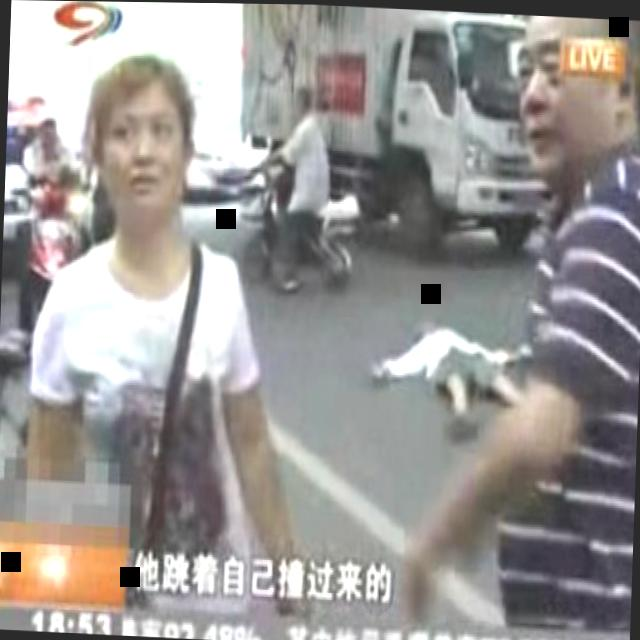Fall-Detected: (365, 266, 532, 460)
